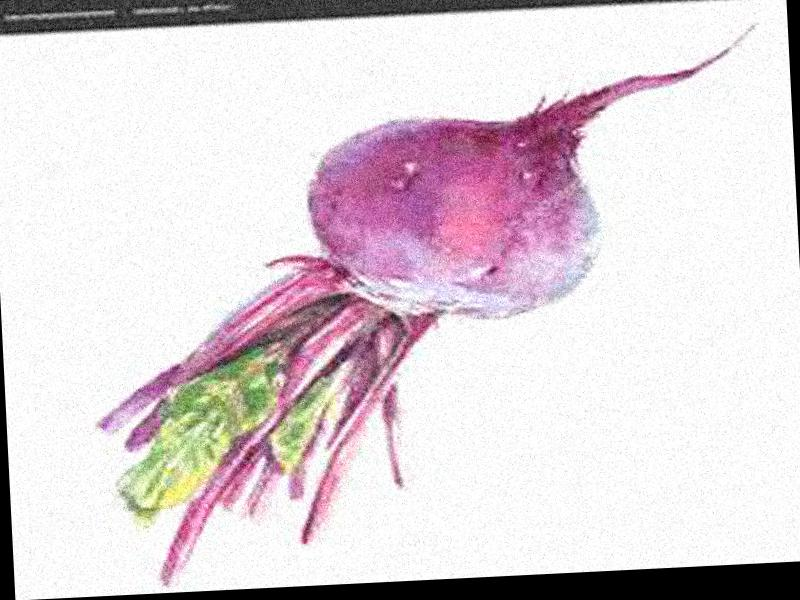Beet: (79, 24, 780, 590)
